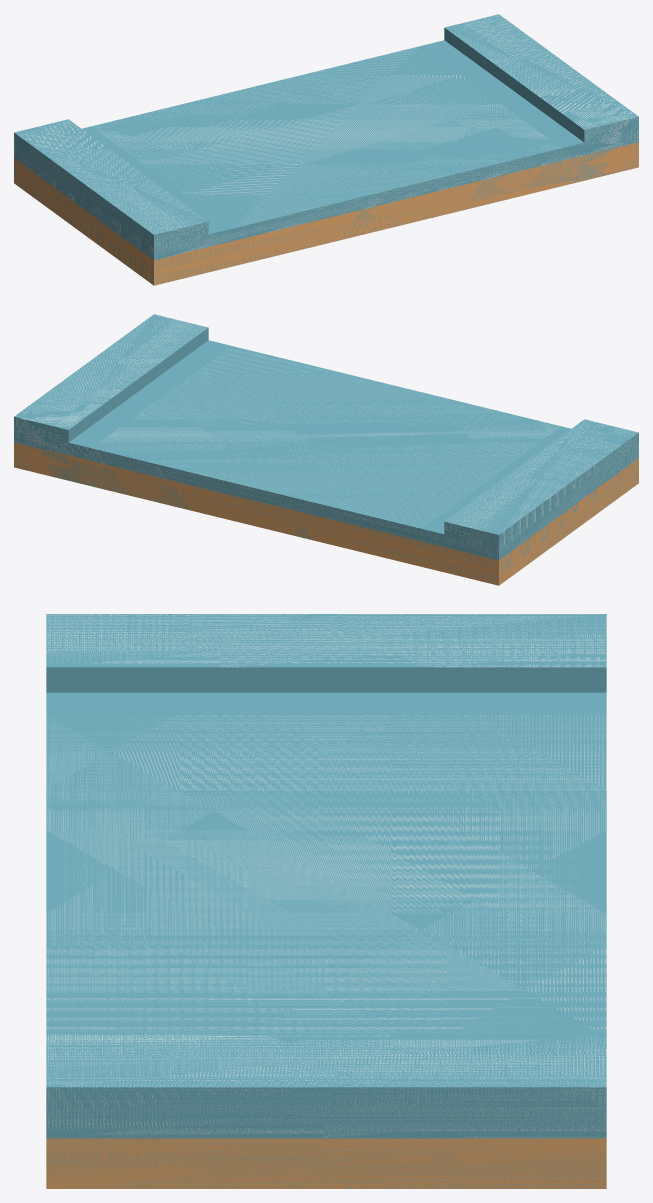
The model's file is snow_tile_wideStraight.dae.
The picture shows the model from 3 angles, top to bottom: view 1: azimuth 30°, elevation 25°; view 2: azimuth 150°, elevation 25°; view 3: azimuth 270°, elevation 25°; orthographic projection. The views are drawn at different scales.
Visible parts, largest first — view 1: snow_tile_wideStraight; view 2: snow_tile_wideStraight; view 3: snow_tile_wideStraight.
Boxes of the visible parts, bbox=[...] form: snow_tile_wideStraight: bbox=[14, 14, 638, 285]; snow_tile_wideStraight: bbox=[14, 314, 638, 585]; snow_tile_wideStraight: bbox=[46, 614, 606, 1188].
Bounding box in the file's own units: 2 × 0.2 × 1.
